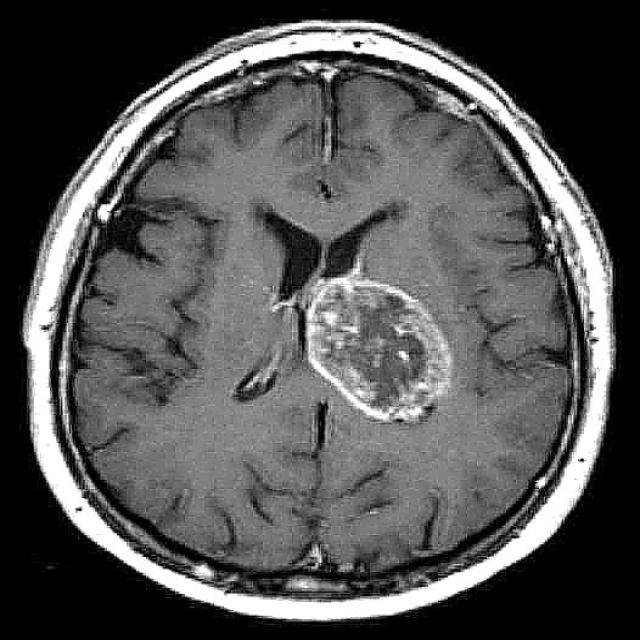Tumor: (302, 275, 450, 420)
